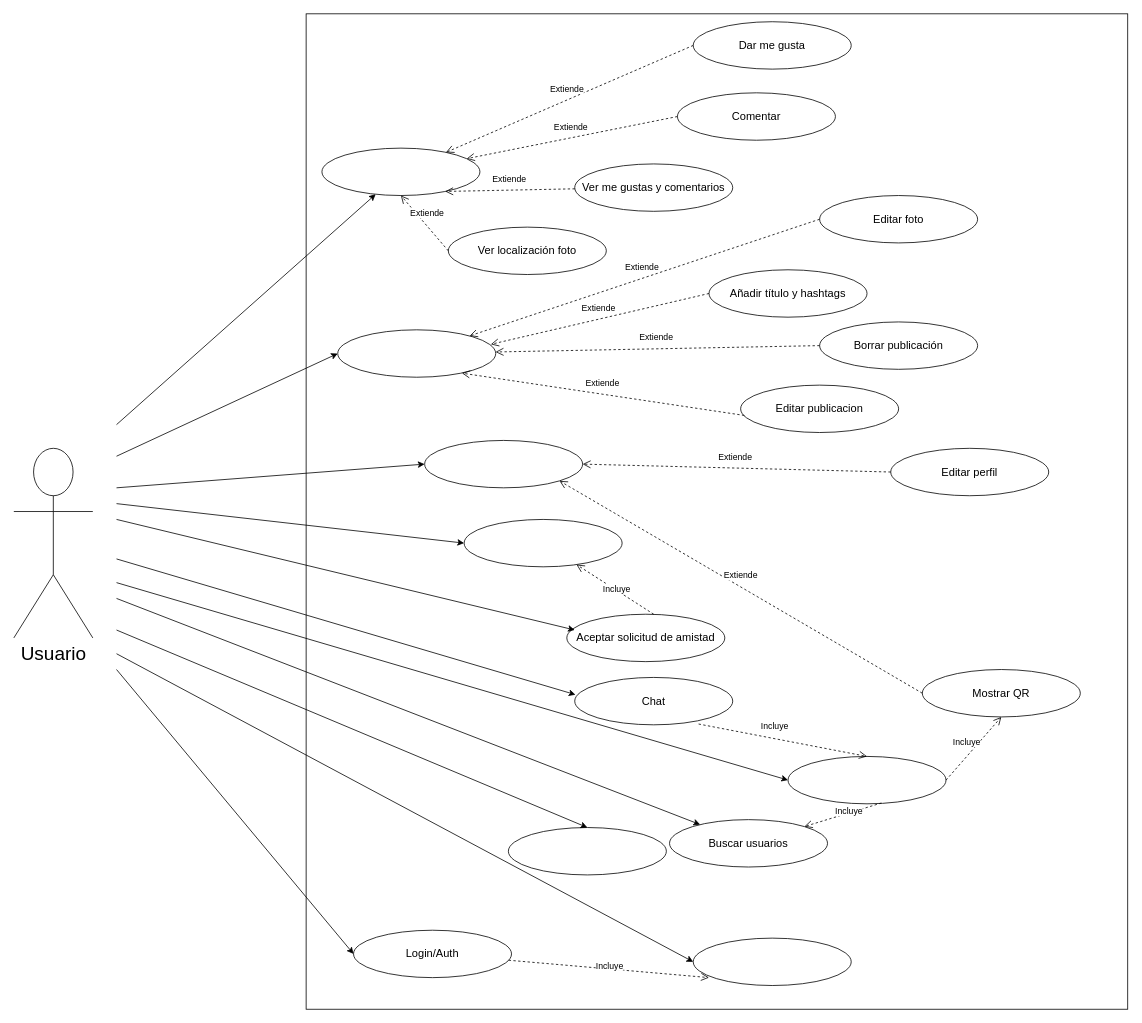
Image size: 1142x1023. Some labels were removed from this diagram. The box of each missing label's shape, as (x1, y1, x2, y2) in pixels:
Agregar amigo: (787, 756, 946, 804)
Buscar hashtags: (508, 827, 666, 875)
Recibir notificación: (463, 519, 622, 567)
Registrarse/Auth: (692, 937, 851, 986)
Subir foto: (337, 329, 496, 377)
Ver perfil: (424, 440, 583, 488)
Ver timeline: (321, 147, 480, 196)
